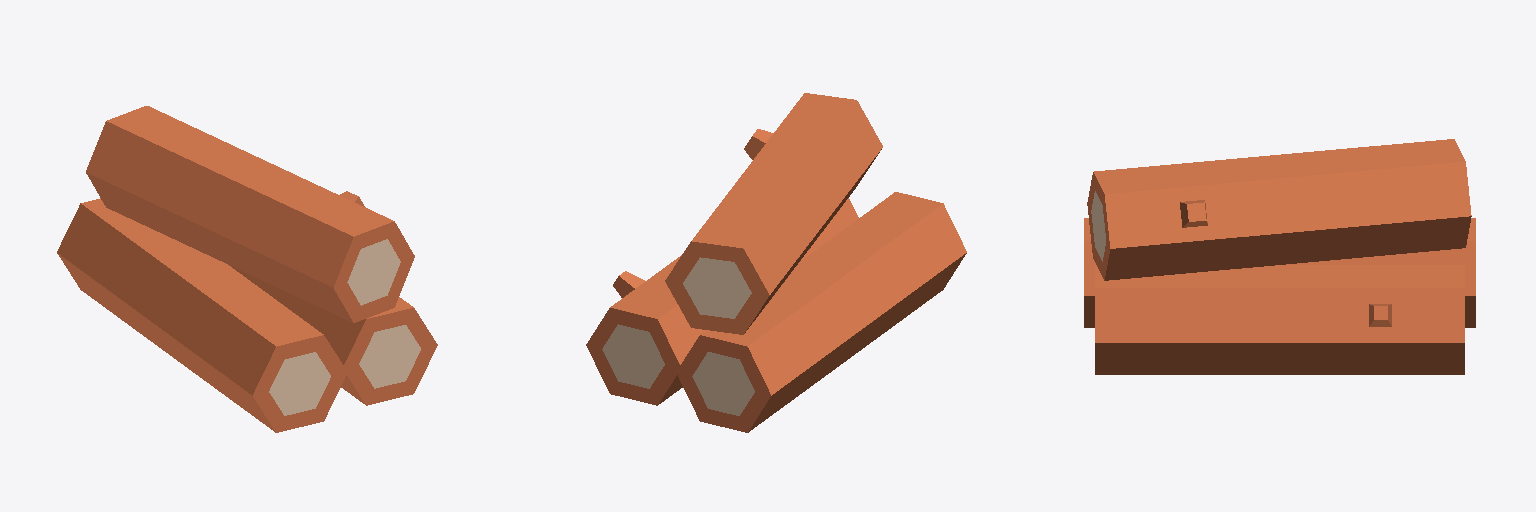
The model's file is log_stack3.obj.
3 views of the same model, side by side, from view 1: azimuth 30°, elevation 25°; view 2: azimuth 150°, elevation 25°; view 3: azimuth 270°, elevation 25° (orthographic).
Visible parts, largest first — view 1: log_stack; view 2: log_stack; view 3: log_stack.
Part boxes in pixels (bbox=[...]): log_stack: bbox=[57, 106, 437, 432]; log_stack: bbox=[586, 93, 966, 432]; log_stack: bbox=[1084, 139, 1475, 374].
Bounding box in the file's own units: 0.4247 × 0.3464 × 0.71.